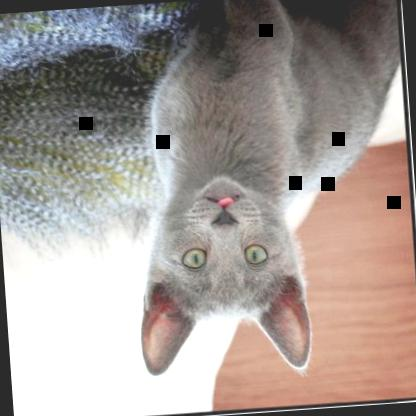cat: (117, 0, 415, 383)
